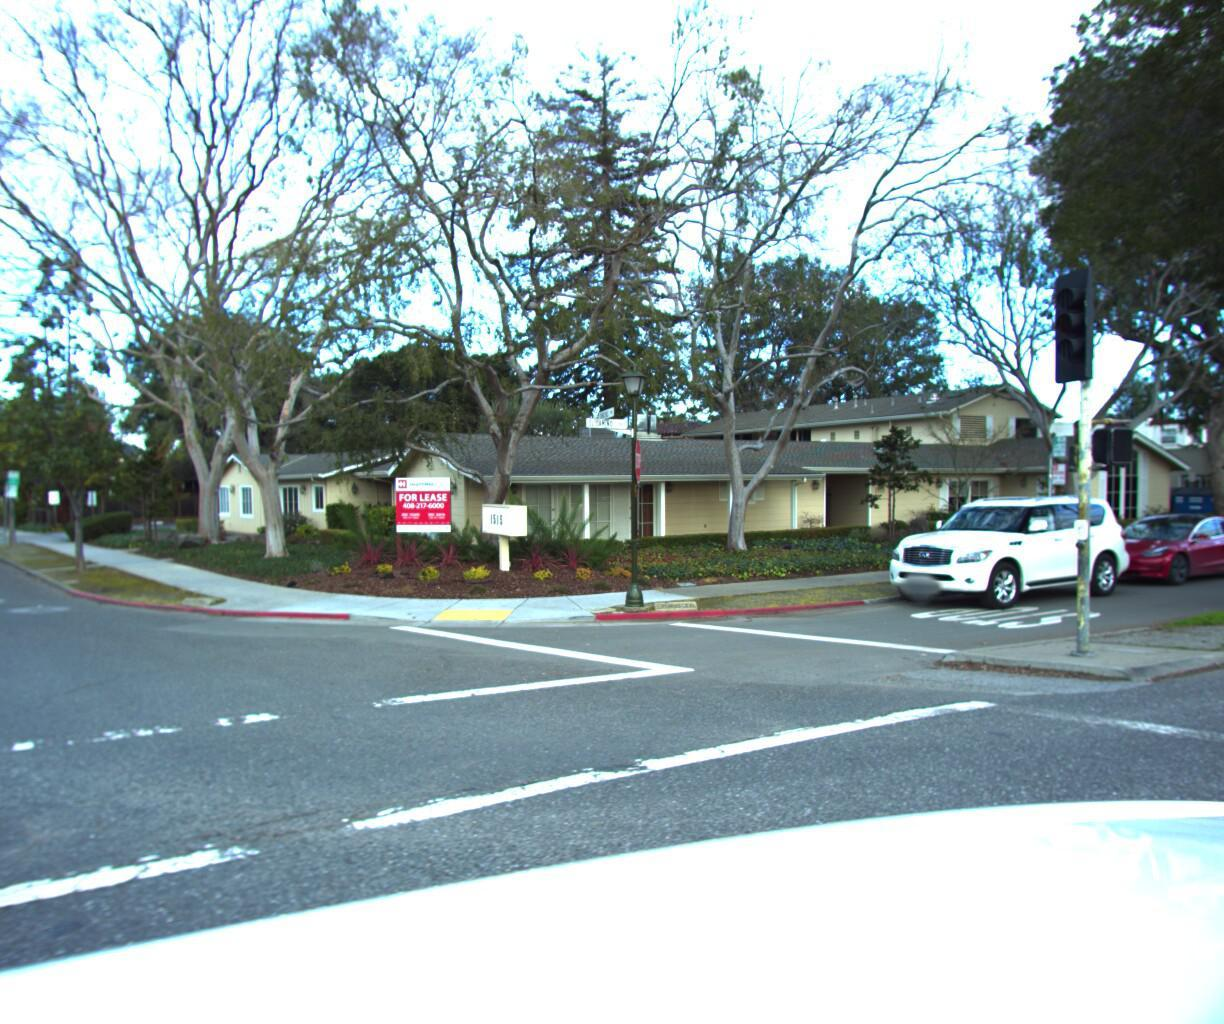car: (873, 487, 1148, 614), (1073, 503, 1224, 586)
